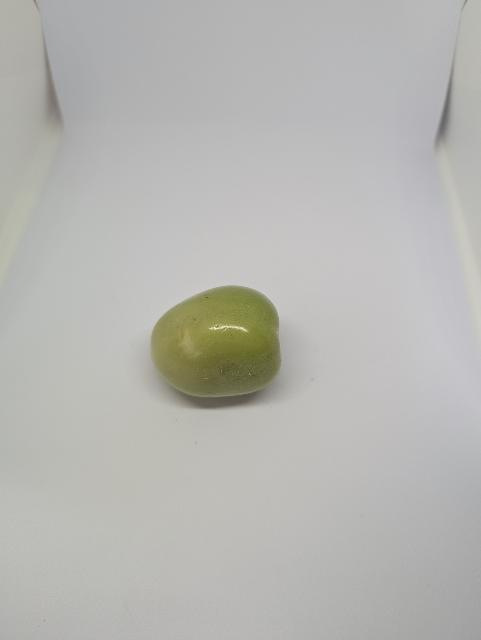green: (146, 285, 285, 401)
